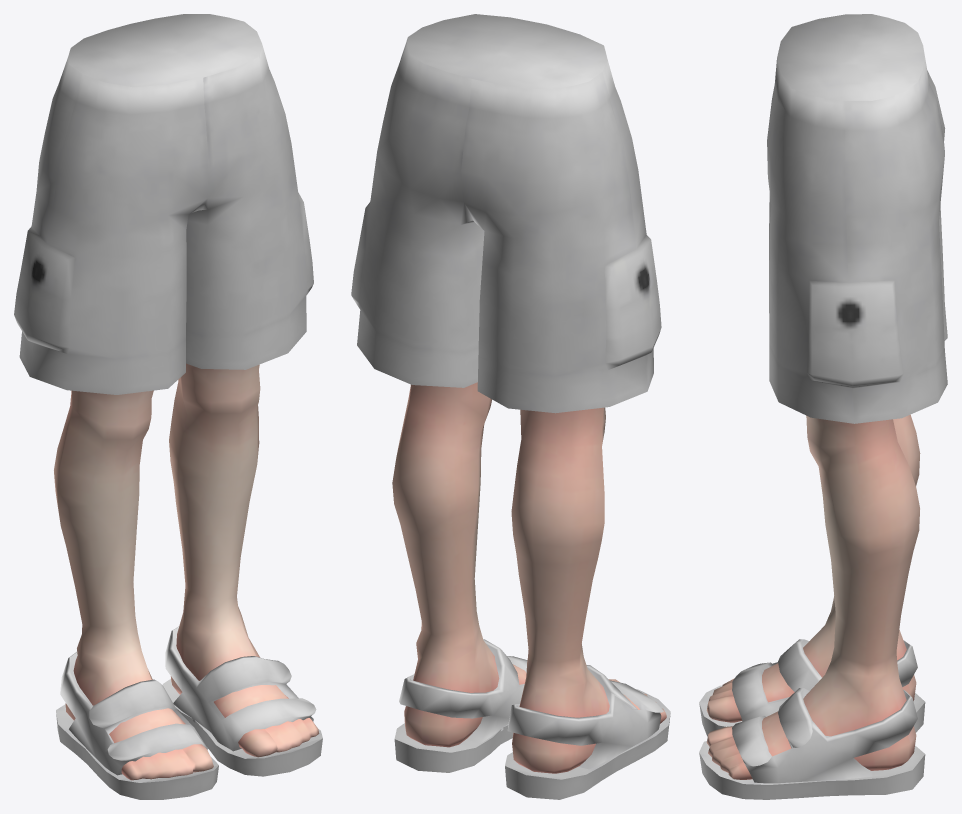
Rendered from tr0740_00_lwb01.gltf.
The picture shows the model from 3 angles, left to right: view 1: azimuth 30°, elevation 25°; view 2: azimuth 150°, elevation 25°; view 3: azimuth 270°, elevation 25°; orthographic projection. The views are drawn at different scales.
Parts seen in each view (by area): view 1: lwb01_bottoms_mesh_shape:lowerbody01, lwb01_lowerbody_mesh_shape:lowerbody01_skin, lwb01_shoes_mesh_shape:lowerbody01; view 2: lwb01_bottoms_mesh_shape:lowerbody01, lwb01_lowerbody_mesh_shape:lowerbody01_skin, lwb01_shoes_mesh_shape:lowerbody01; view 3: lwb01_bottoms_mesh_shape:lowerbody01, lwb01_lowerbody_mesh_shape:lowerbody01_skin, lwb01_shoes_mesh_shape:lowerbody01.
Boxes of the visible parts, x1,y1,x2,y2 form: lwb01_bottoms_mesh_shape:lowerbody01: [14, 14, 313, 394]; lwb01_lowerbody_mesh_shape:lowerbody01_skin: [54, 363, 319, 780]; lwb01_shoes_mesh_shape:lowerbody01: [56, 626, 322, 799]; lwb01_bottoms_mesh_shape:lowerbody01: [351, 14, 661, 413]; lwb01_lowerbody_mesh_shape:lowerbody01_skin: [392, 382, 666, 773]; lwb01_shoes_mesh_shape:lowerbody01: [394, 639, 670, 799]; lwb01_bottoms_mesh_shape:lowerbody01: [767, 14, 947, 423]; lwb01_lowerbody_mesh_shape:lowerbody01_skin: [706, 414, 920, 779]; lwb01_shoes_mesh_shape:lowerbody01: [699, 639, 925, 799].
Size of what is drawn, in the model's own units: 0.4108 by 0.9604 by 0.3121.
2 materials, 2 textured.
